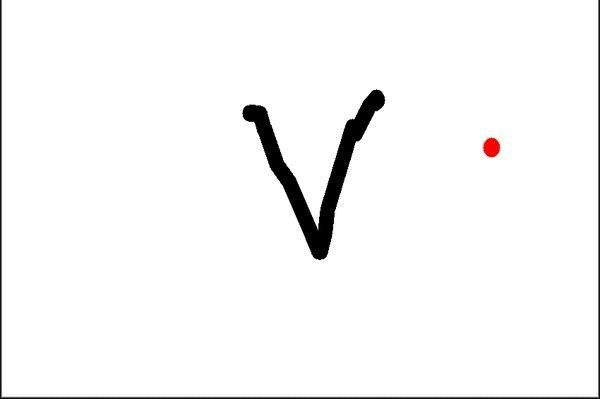V: (231, 87, 395, 262)
